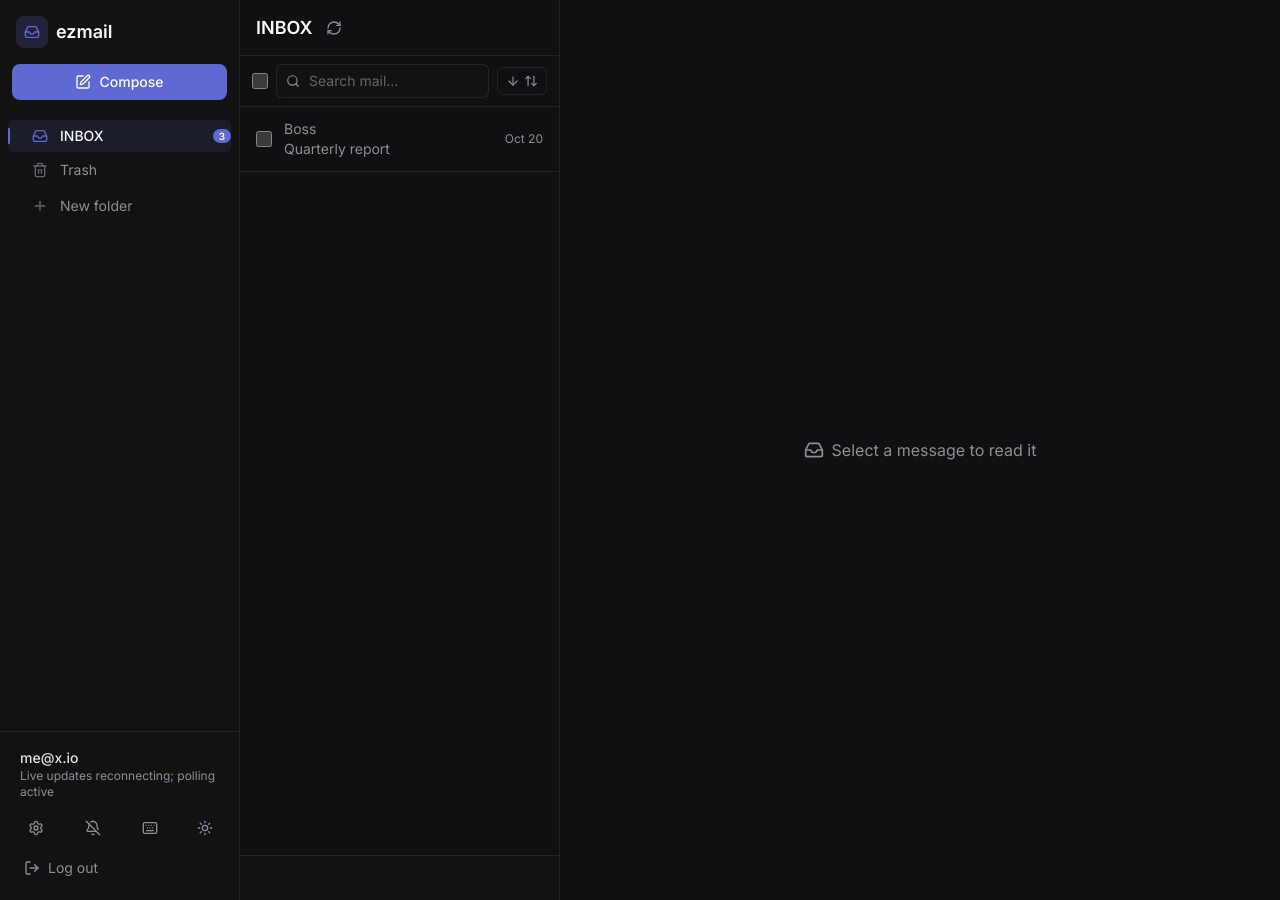
it: live updates › notifies when the tab is hidden and notifications are on
The width and height of the screenshot is (1280, 900).
Expected: the text "Quarterly report" is shown, x1=284 y1=139 x2=390 y2=159
Click the button named "Desktop notifications" at (93, 828), box x1=77 y1=812 x2=109 y2=844
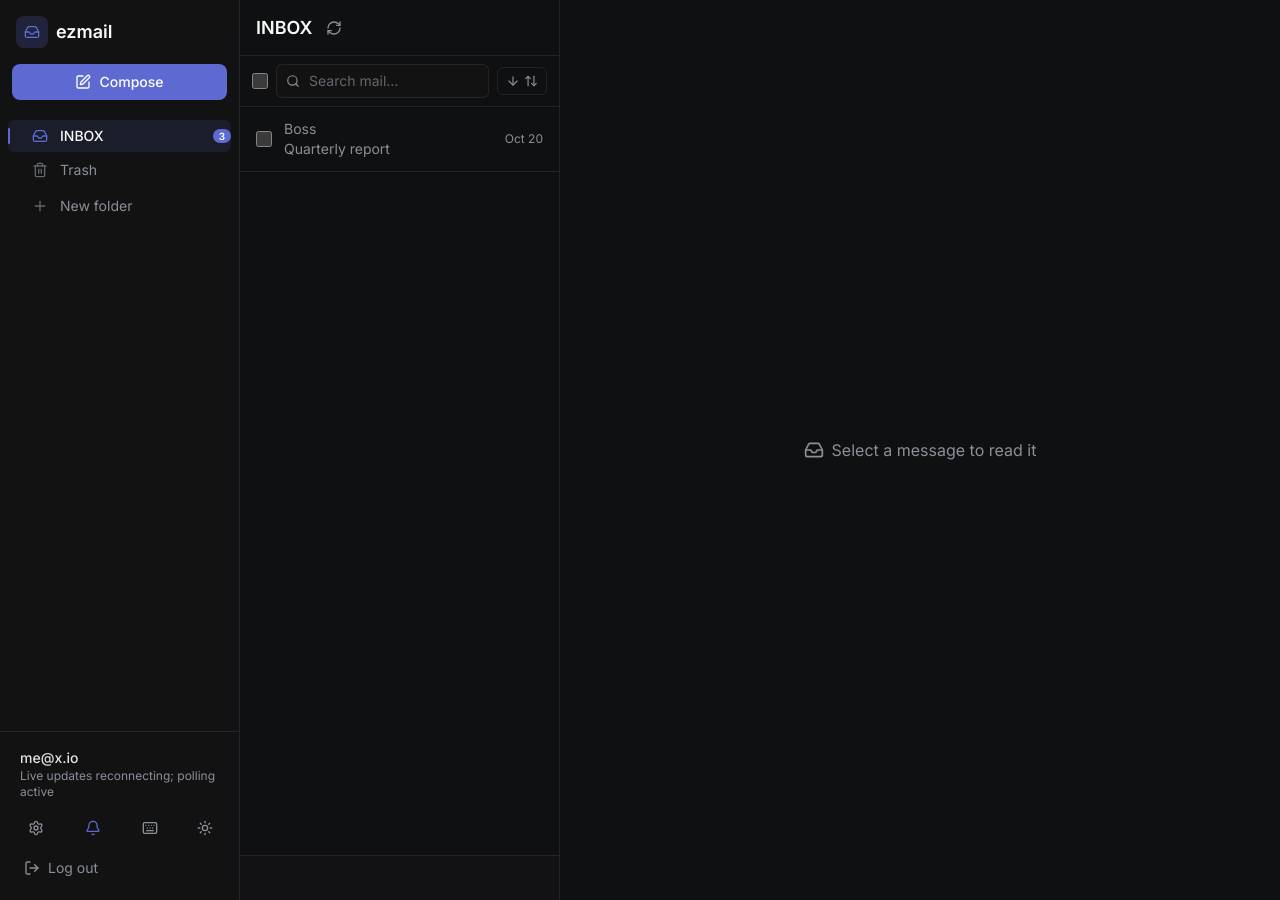
Expected: the button titled "New-mail notifications on" is shown, x1=77 y1=812 x2=109 y2=844
